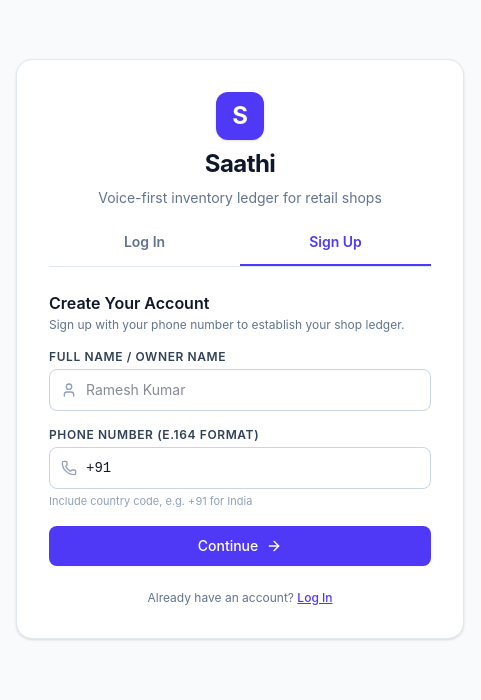
Test: Login & Authentication Flow › validates phone format before sending OTP
Type "Test User" into the field with placeholder "Ramesh Kumar" at (240, 390), box [49, 369, 431, 411]
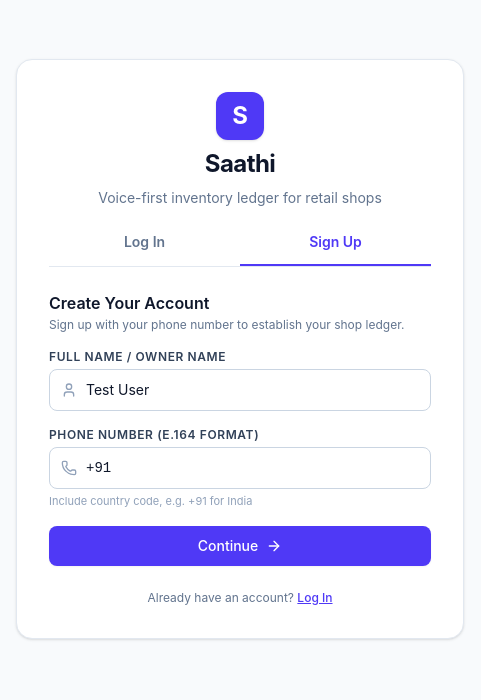
Replace the text in the field with placeholder "+919876543210" below "Phone Number (E.164 format)" with "12345" at (240, 468), box [49, 447, 431, 489]
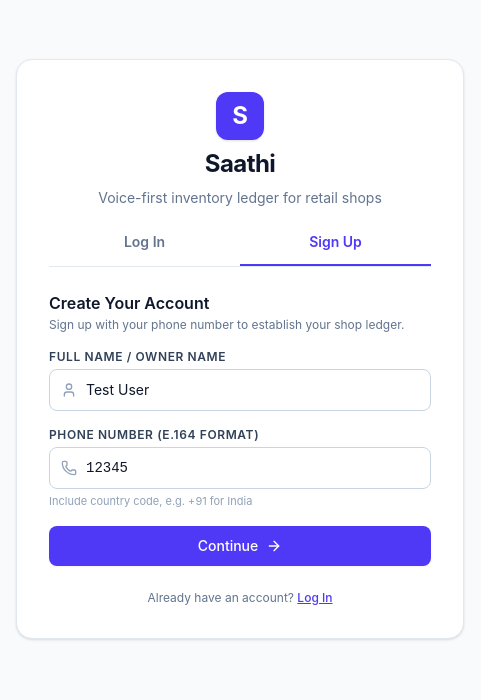
Click the button "Continue" at (240, 546), box [49, 526, 431, 566]
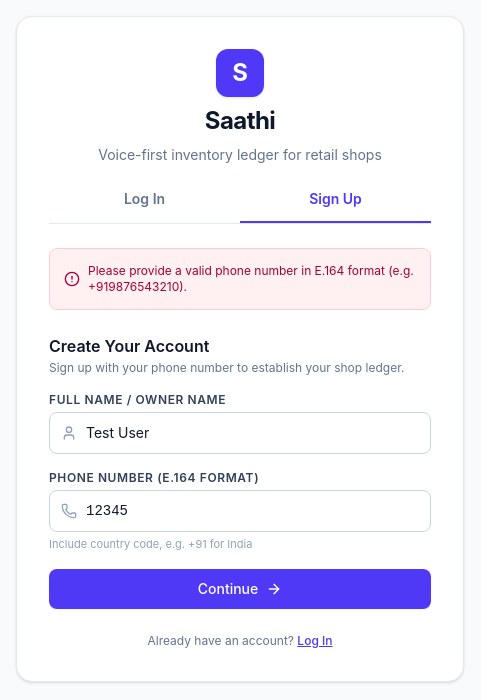
Expected: the text "valid phone number in E.164 format" is shown, [88, 263, 414, 294]
